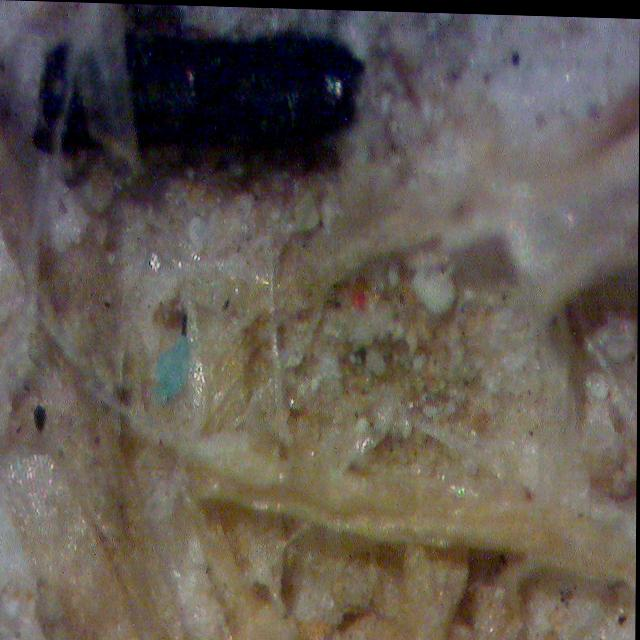microplastic: (154, 330, 190, 407)
